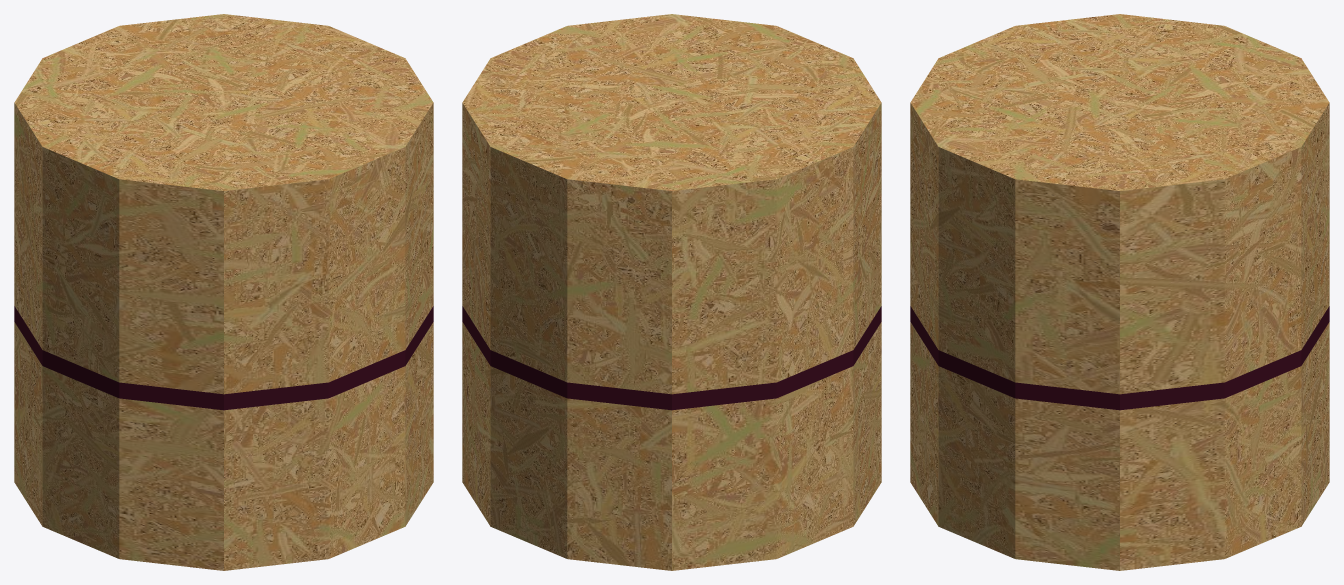
The model's file is hayroll1.fbx.
3 views of the same model, side by side, from view 1: azimuth 30°, elevation 25°; view 2: azimuth 150°, elevation 25°; view 3: azimuth 270°, elevation 25° (orthographic).
Parts seen in each view (by area): view 1: Cylinder; view 2: Cylinder; view 3: Cylinder.
Boxes of the visible parts, x1,y1,x2,y2 form: Cylinder: (14, 14, 433, 570); Cylinder: (462, 14, 881, 570); Cylinder: (910, 14, 1329, 570).
Size of the model in its own units: 90 by 90 by 90.
Materials: 2 (1 with a texture image).
